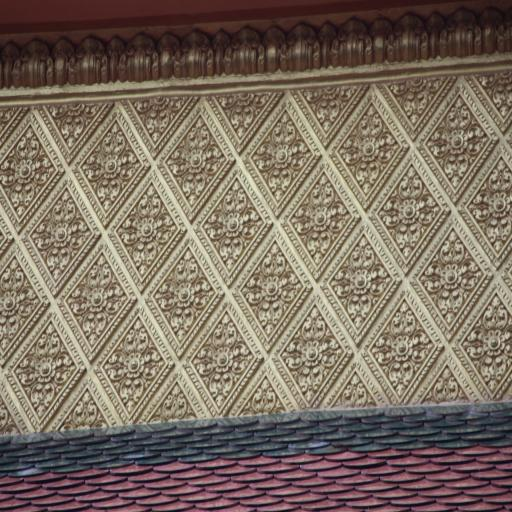hoa: (114, 174, 181, 284), (32, 185, 100, 282), (202, 175, 265, 277), (242, 242, 310, 336), (167, 115, 231, 210), (335, 104, 399, 199), (290, 170, 354, 264), (254, 114, 317, 208), (426, 99, 492, 188), (379, 170, 442, 260), (331, 237, 394, 326), (83, 118, 143, 210), (108, 319, 166, 414), (154, 254, 216, 342), (0, 125, 58, 219), (69, 256, 129, 344), (422, 236, 483, 320), (286, 311, 342, 401), (383, 72, 455, 140), (378, 306, 432, 396), (292, 82, 370, 144), (200, 316, 253, 406), (18, 326, 67, 423), (210, 89, 285, 143), (127, 91, 198, 148), (41, 98, 109, 153), (473, 163, 512, 249), (473, 304, 512, 388), (0, 258, 33, 351), (148, 378, 206, 428), (467, 74, 512, 133), (425, 359, 479, 408), (237, 368, 293, 415), (331, 362, 386, 409), (56, 386, 110, 430)
